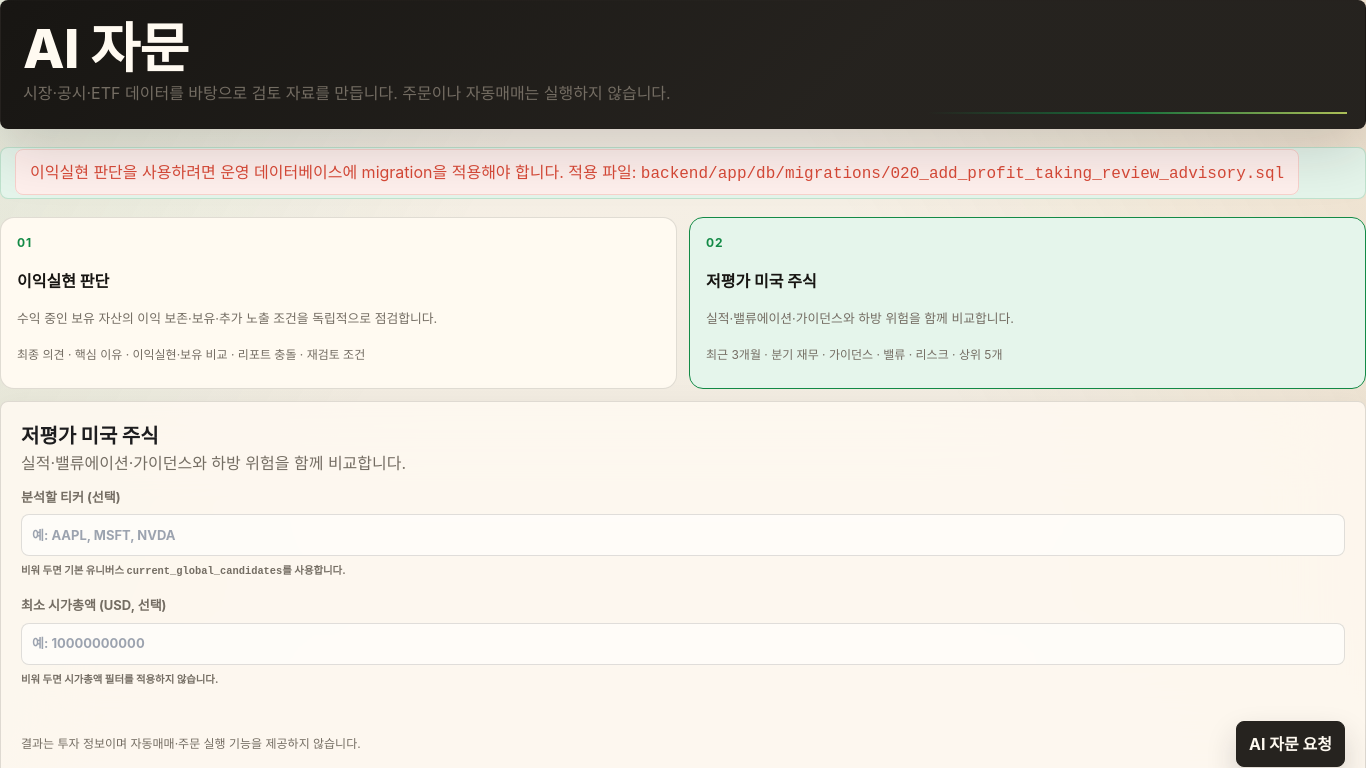
Advisory page › blocks only the profit-taking review when migration 020 is missing
Check: the text "이익실현 판단을 사용하려면" is shown, box [30, 162, 636, 182]
Click the button "이익실현 판단": [63, 281] box [0, 217, 677, 389]
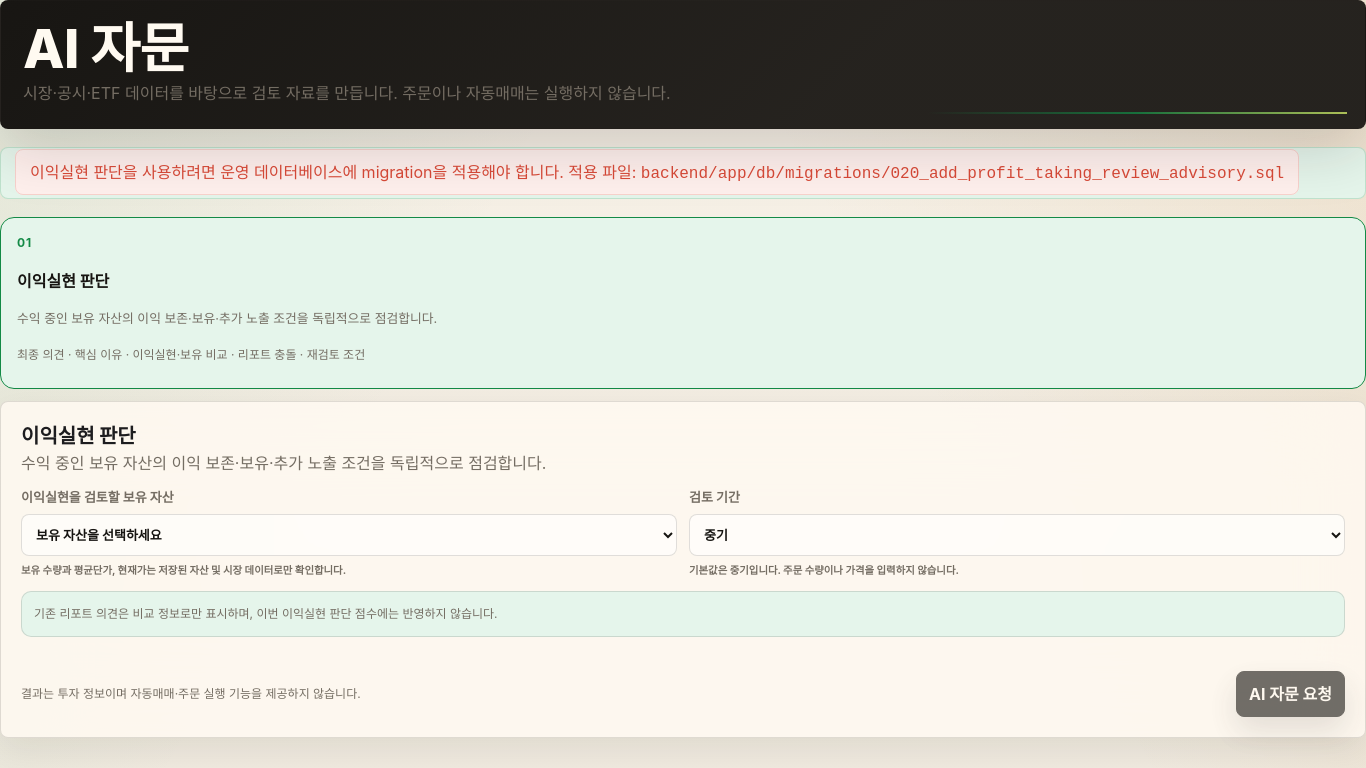
Check: the button "AI 자문 요청" is disabled, box [1236, 670, 1345, 716]
